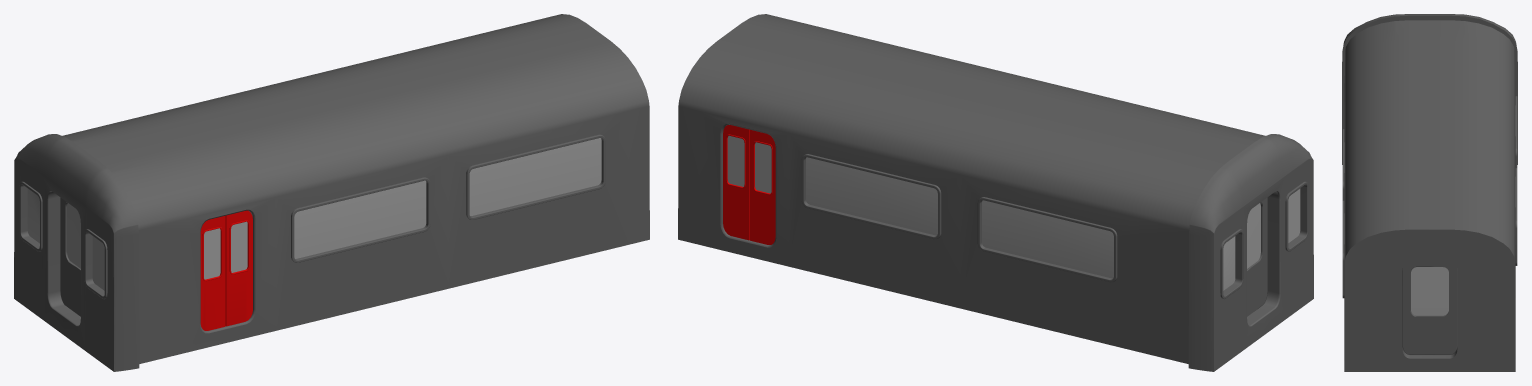
Rendered from Train_final.fbx.
3 views of the same model, side by side, from view 1: azimuth 30°, elevation 25°; view 2: azimuth 150°, elevation 25°; view 3: azimuth 270°, elevation 25° (orthographic). The views are drawn at different scales.
Visible parts, largest first — view 1: train_body, glass, right1, left1; view 2: train_body, glass, left2, right2; view 3: train_body, glass.
Part boxes in pixels (x1,y1,x2,y2): train_body: (14,14,649,371); glass: (27,138,601,290); right1: (225,210,252,326); left1: (200,215,225,330); train_body: (678,14,1313,371); glass: (806,157,1300,290); left2: (723,125,749,240); right2: (750,129,775,244); train_body: (1342,14,1517,371); glass: (1411,267,1448,315).
Size of the model in its own units: 1276 by 405 by 433.
